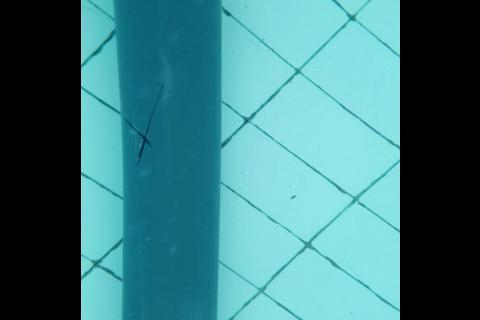keretakan: (121, 80, 167, 162)
